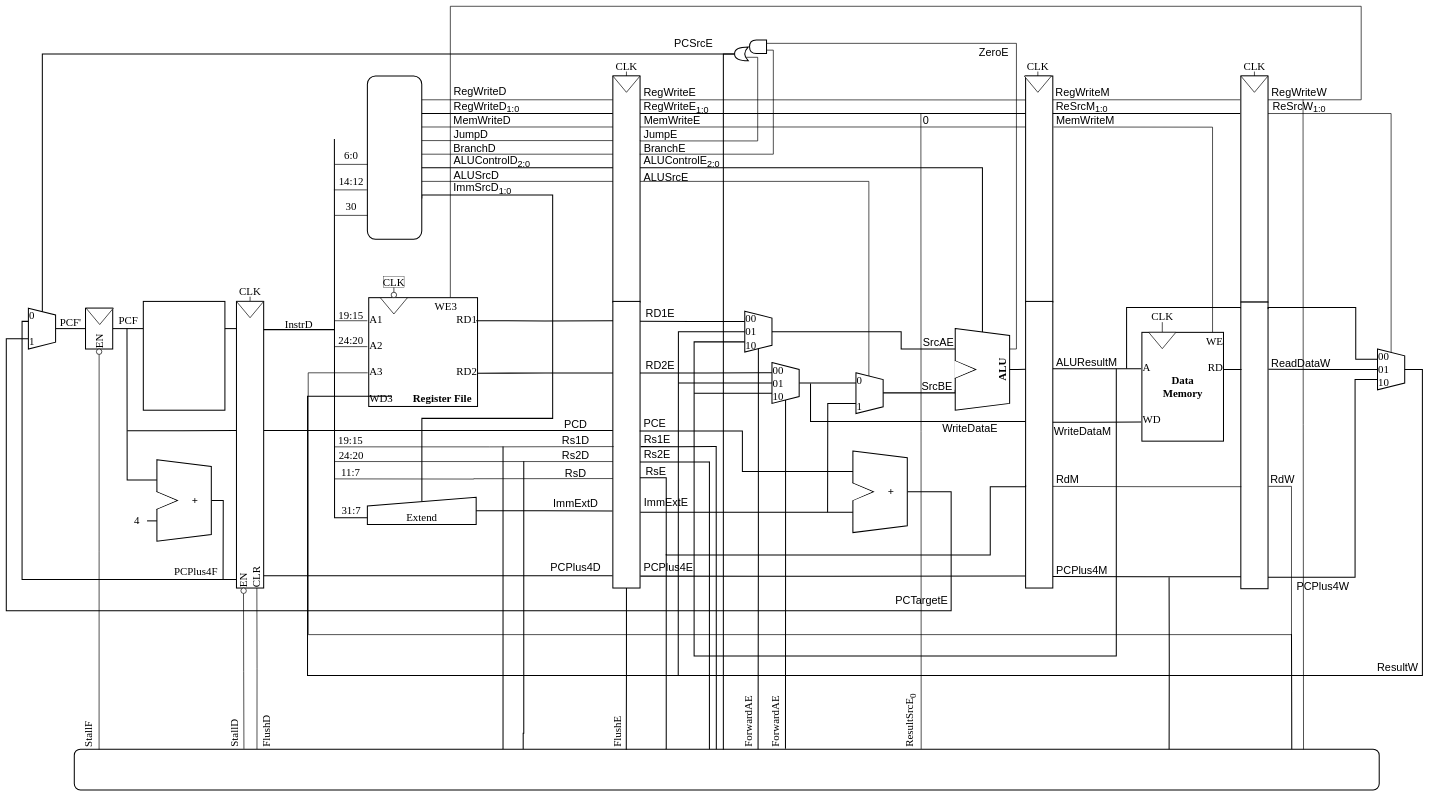
Image size: 1429x796. Some labels were removed from this diagram. The centre of each missing label's shape, as x and y in pixels:
A RD Instruction Memory: (x=184, y=356)
CLR: (x=626, y=444)
Control Unit op funct3 funct7 5: (x=394, y=157)
Hazard Unit: (x=727, y=769)
